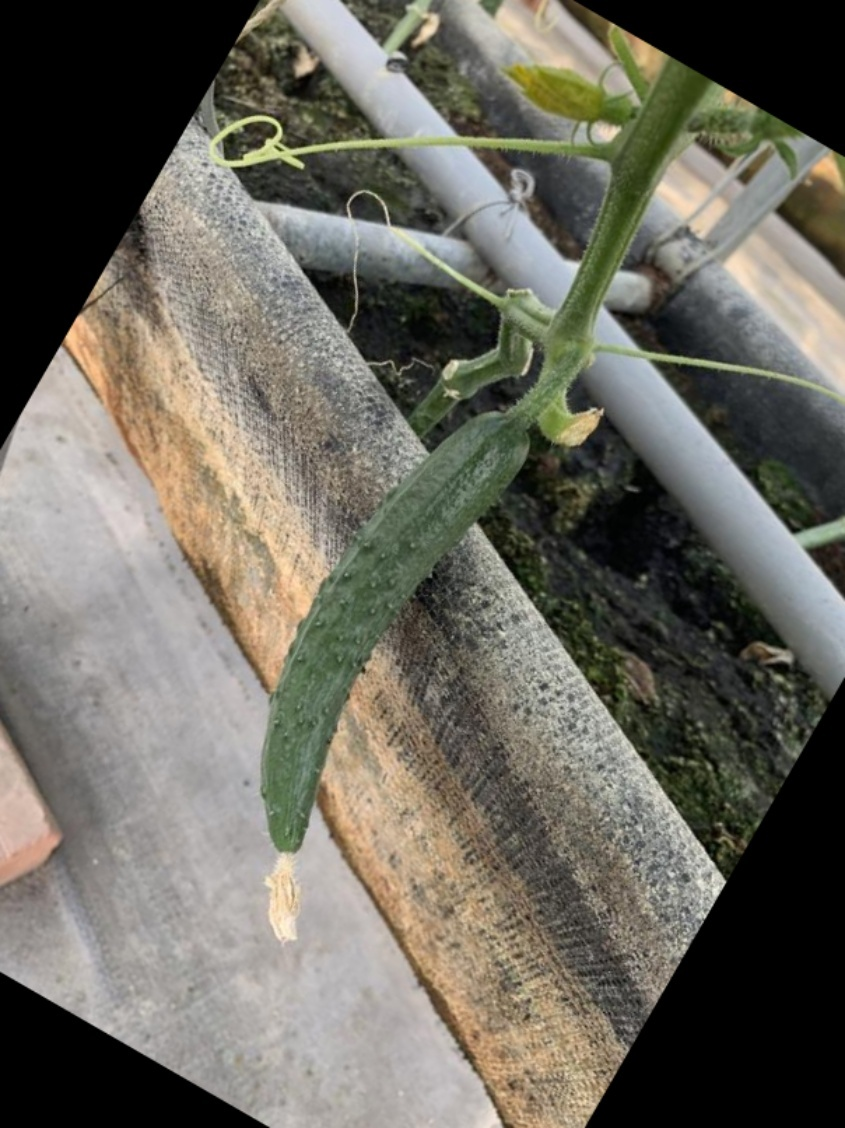mature: (236, 395, 520, 897)
